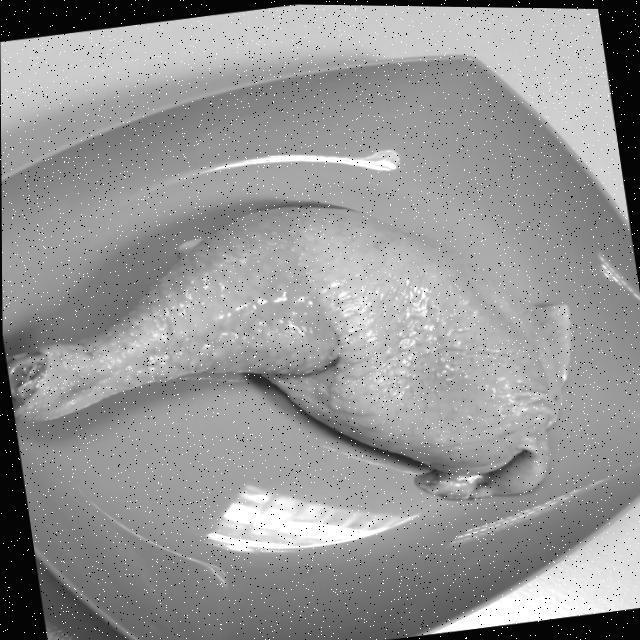quater: (6, 202, 552, 496)
